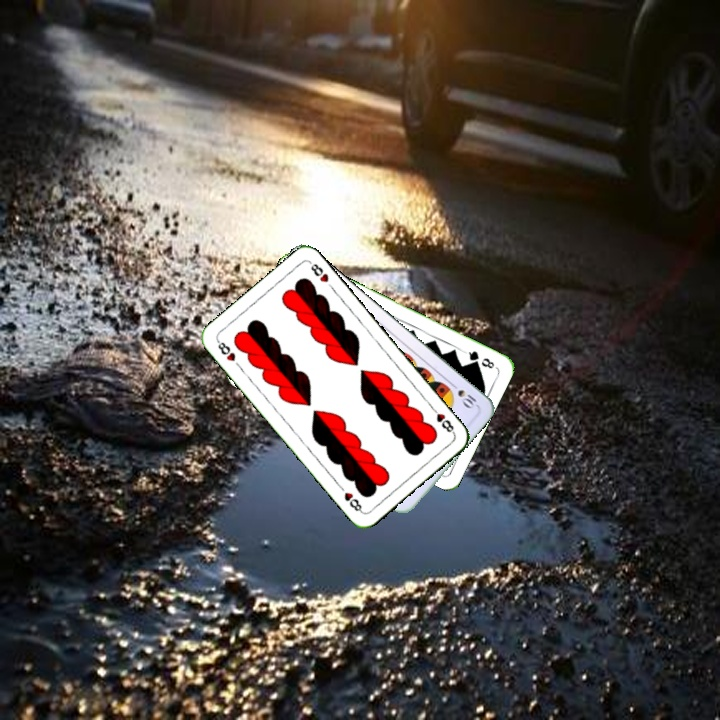G8: (461, 346, 497, 371)
H8: (427, 402, 458, 437), (213, 336, 238, 364)
S10: (446, 378, 479, 412)
